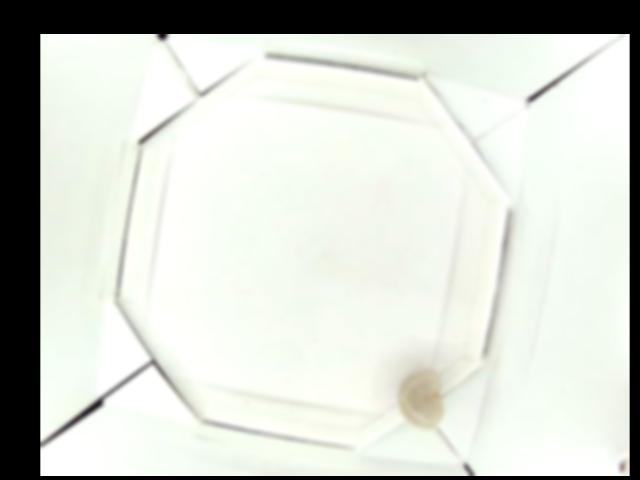Pebble: (400, 366, 442, 428)
